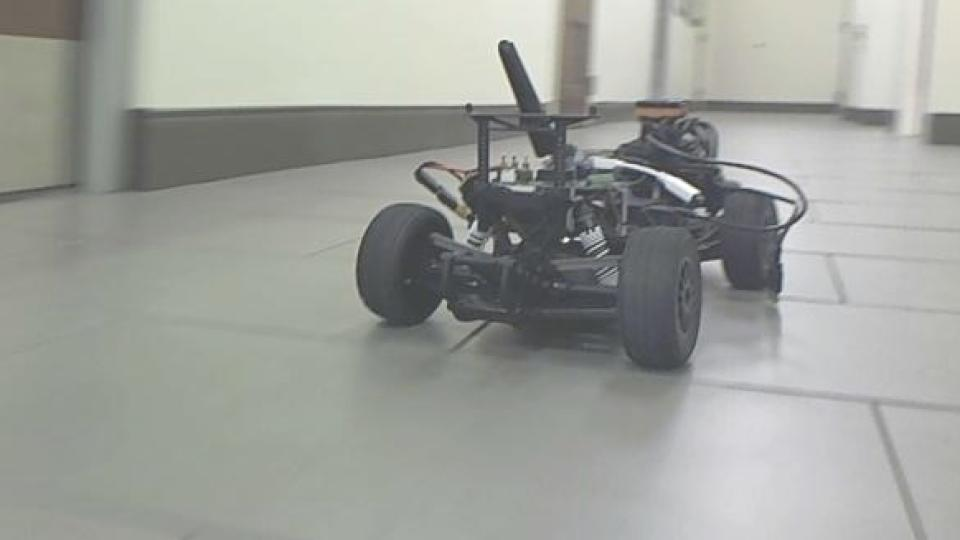car: (353, 36, 812, 373)
